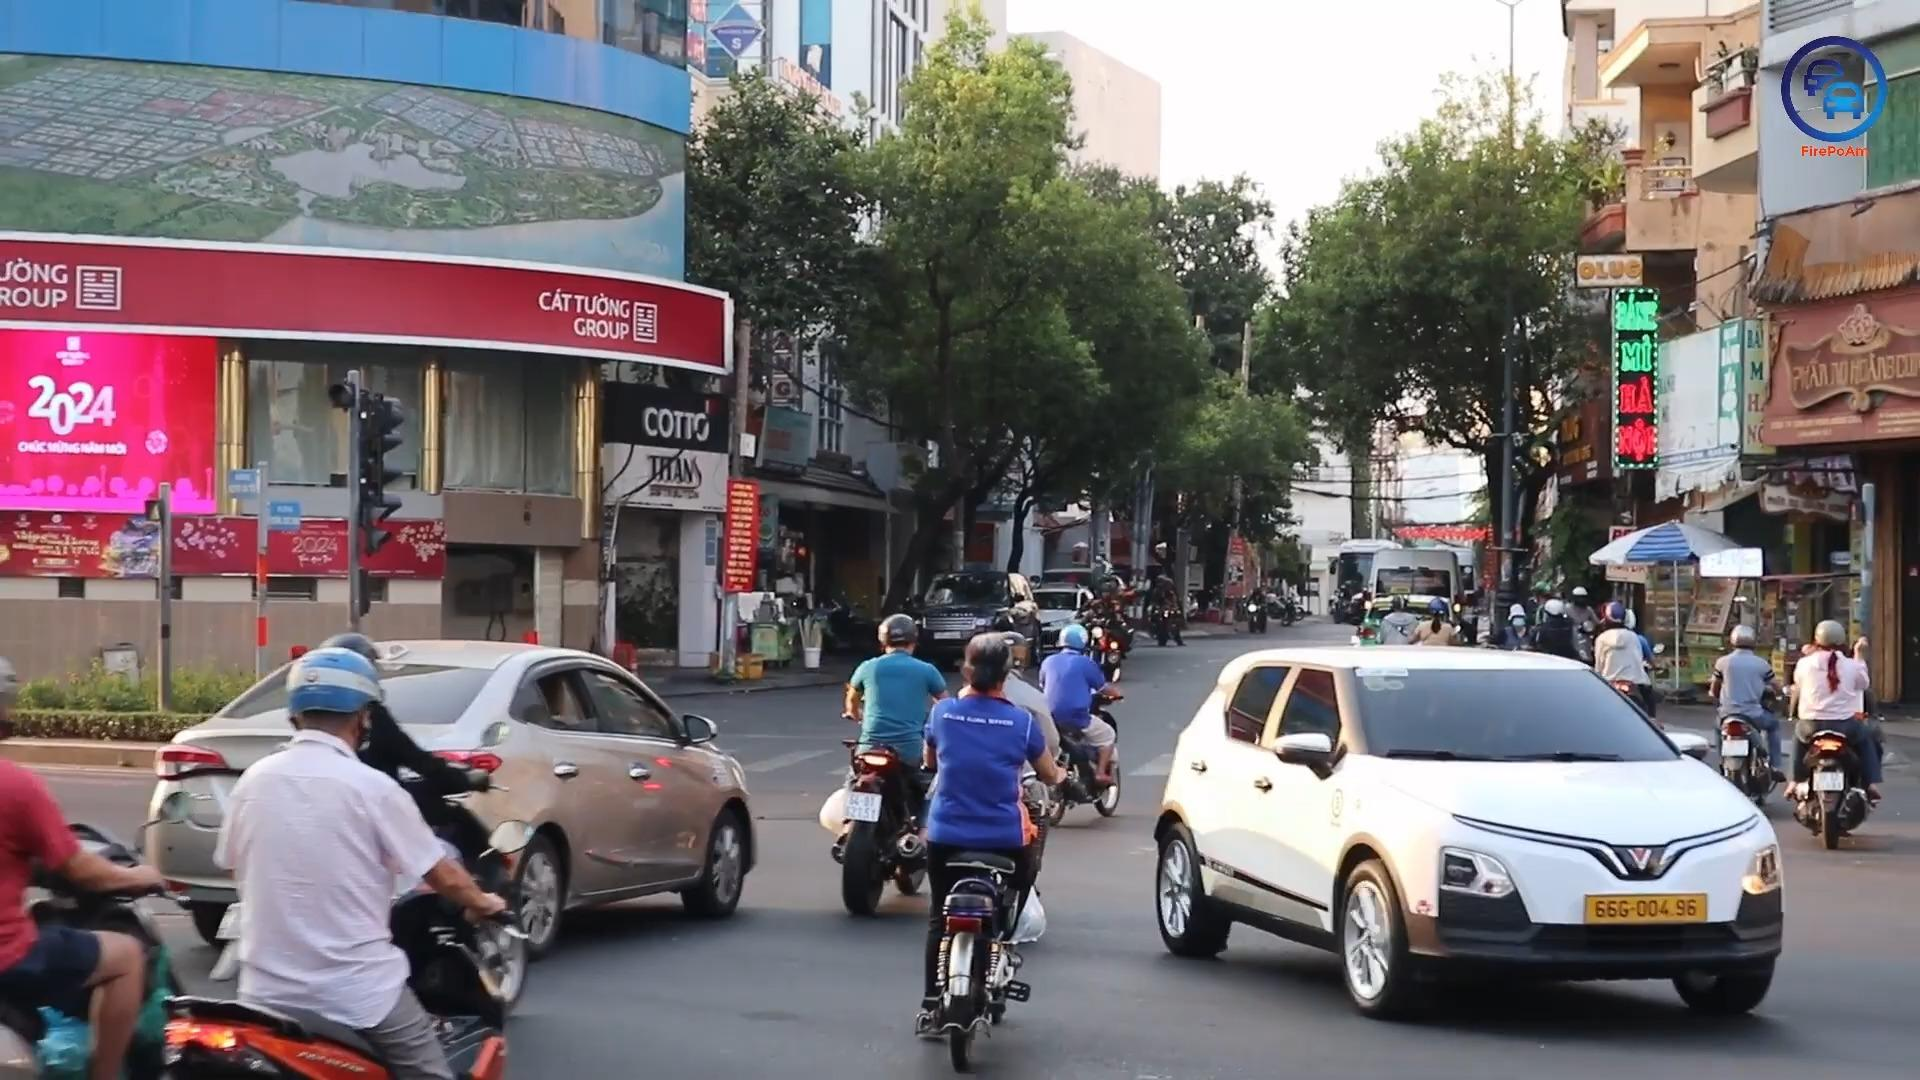bien_so: (1580, 890, 1709, 926), (841, 791, 883, 823), (1811, 769, 1845, 793), (1720, 738, 1750, 758)
